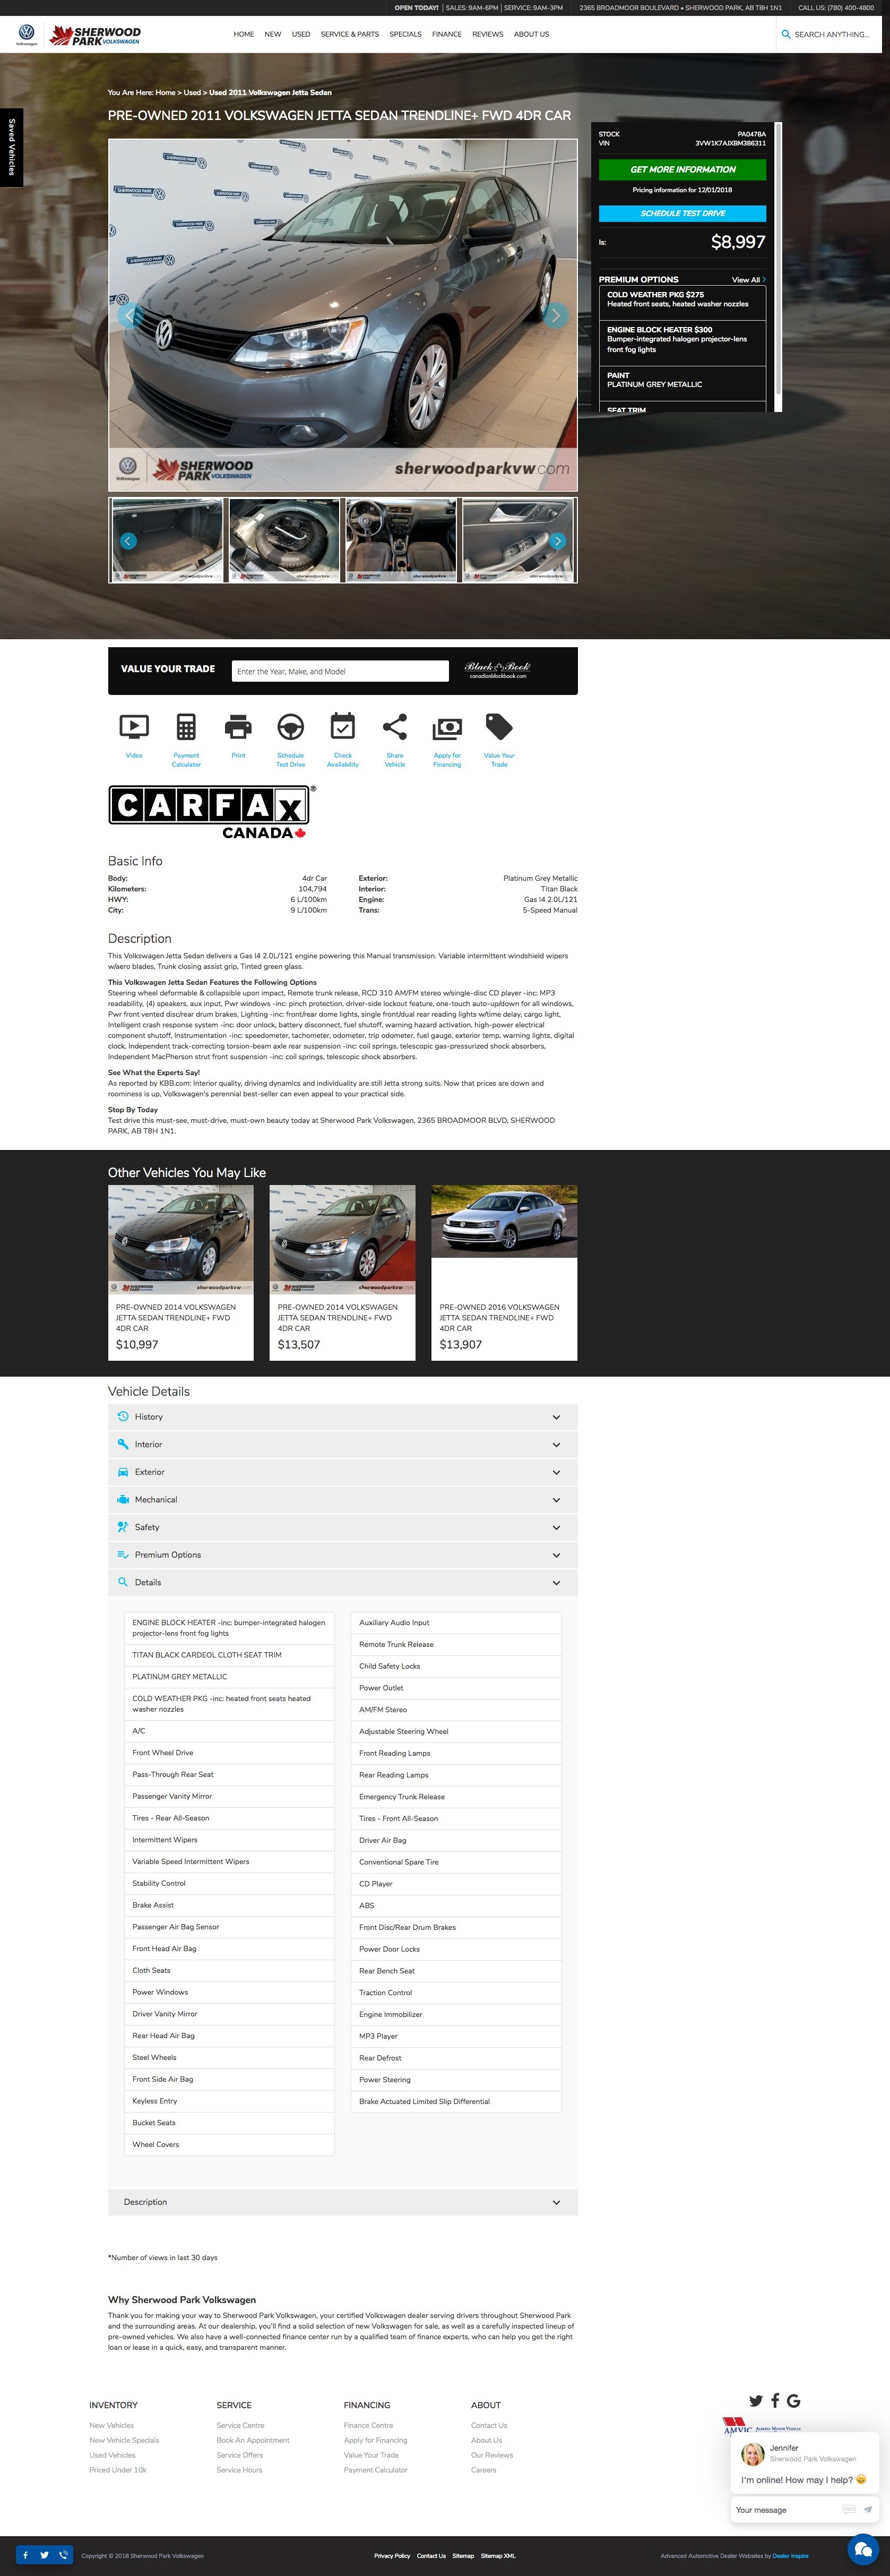car: (550, 532, 567, 550)
